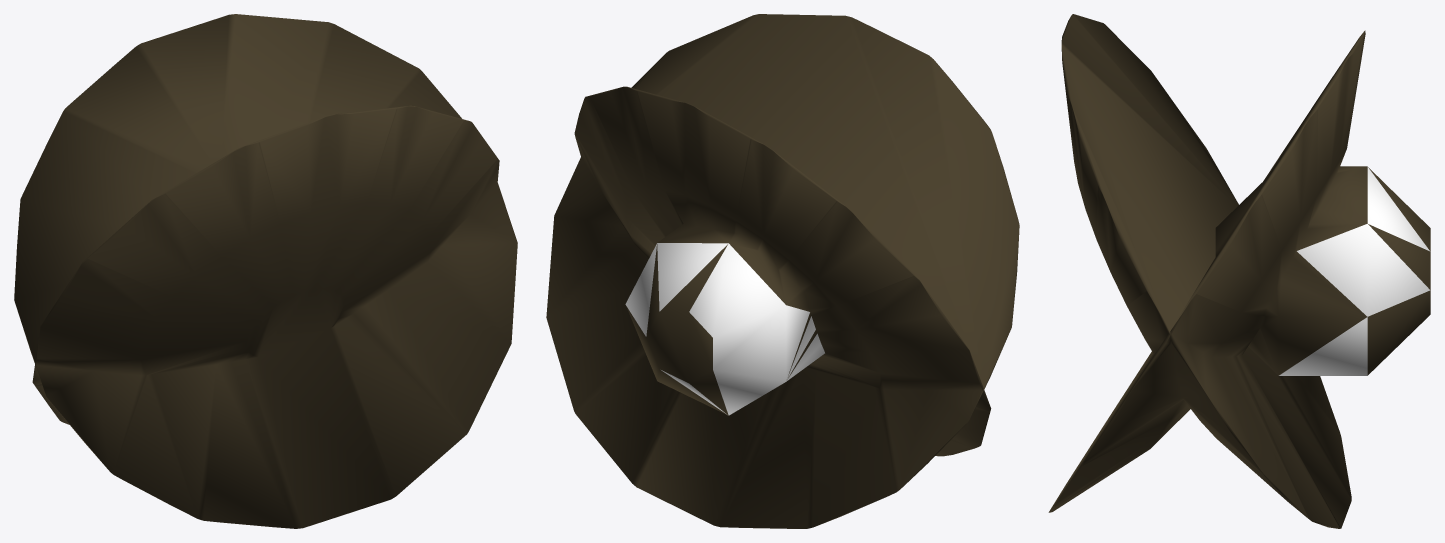
Rendered from Saucer_Broken.dae.
3 renders of one model, left to right at view 1: azimuth 30°, elevation 25°; view 2: azimuth 150°, elevation 25°; view 3: azimuth 270°, elevation 25°, orthographic. The views are drawn at different scales.
Visible parts, largest first — view 1: meshU3D; view 2: meshU3D; view 3: meshU3D.
Part boxes in pixels (x1,y1,x2,y2): meshU3D: (14,14,517,528); meshU3D: (546,14,1019,528); meshU3D: (1048,14,1430,528).
Bounding box in the file's own units: 10 × 8.64 × 6.57.
